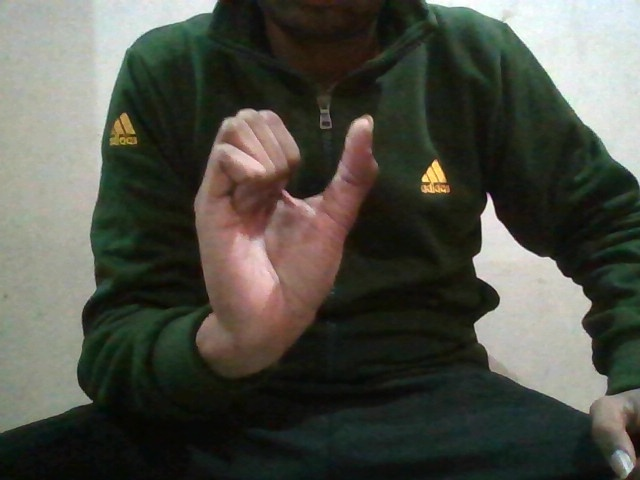S: (204, 106, 381, 311)
